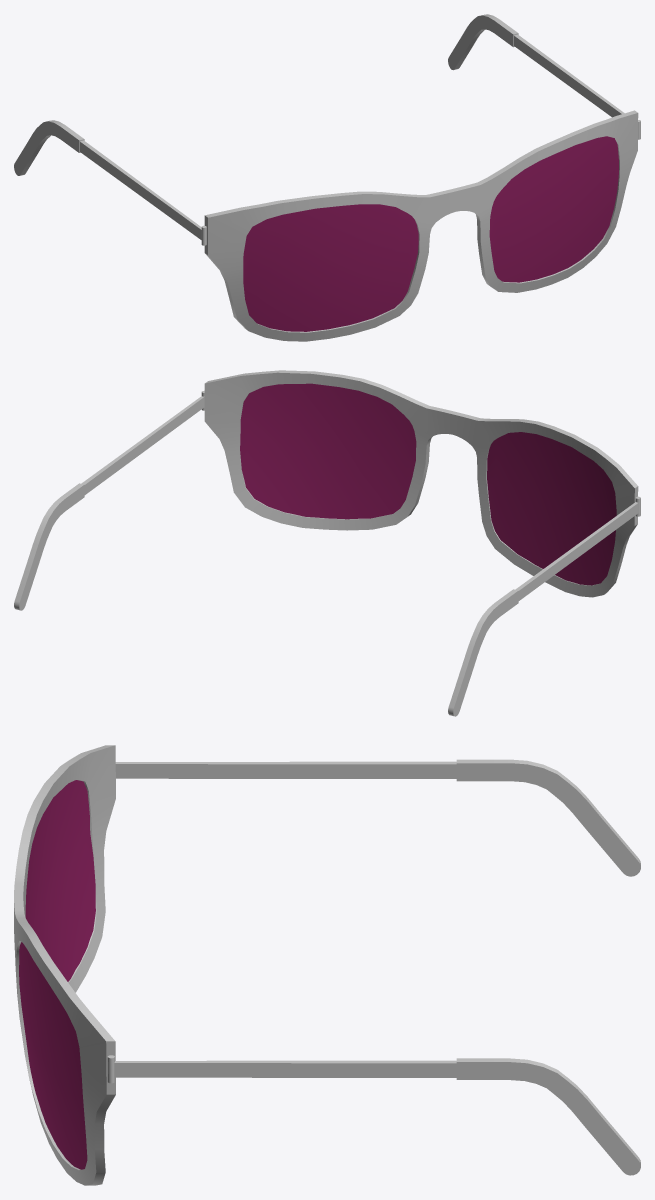
The model's file is glasses20.001.obj.
3 views of the same model, one above another, from view 1: azimuth 30°, elevation 25°; view 2: azimuth 150°, elevation 25°; view 3: azimuth 270°, elevation 25° (orthographic). The views are drawn at different scales.
Visible parts, largest first — view 1: glasses20.001_glasses20.001_Material.005, glasses20.001_glasses20.001_black; view 2: glasses20.001_glasses20.001_Material.005, glasses20.001_glasses20.001_black; view 3: glasses20.001_glasses20.001_black, glasses20.001_glasses20.001_Material.005.
Boxes of the visible parts, x1,y1,x2,y2 form: glasses20.001_glasses20.001_Material.005: (243,136,618,331); glasses20.001_glasses20.001_black: (14,14,640,341); glasses20.001_glasses20.001_Material.005: (240,383,616,585); glasses20.001_glasses20.001_black: (14,370,640,716); glasses20.001_glasses20.001_black: (14,745,640,1185); glasses20.001_glasses20.001_Material.005: (19,780,95,1169).
Bounding box in the file's own units: 2.17 × 0.7027 × 1.9.
